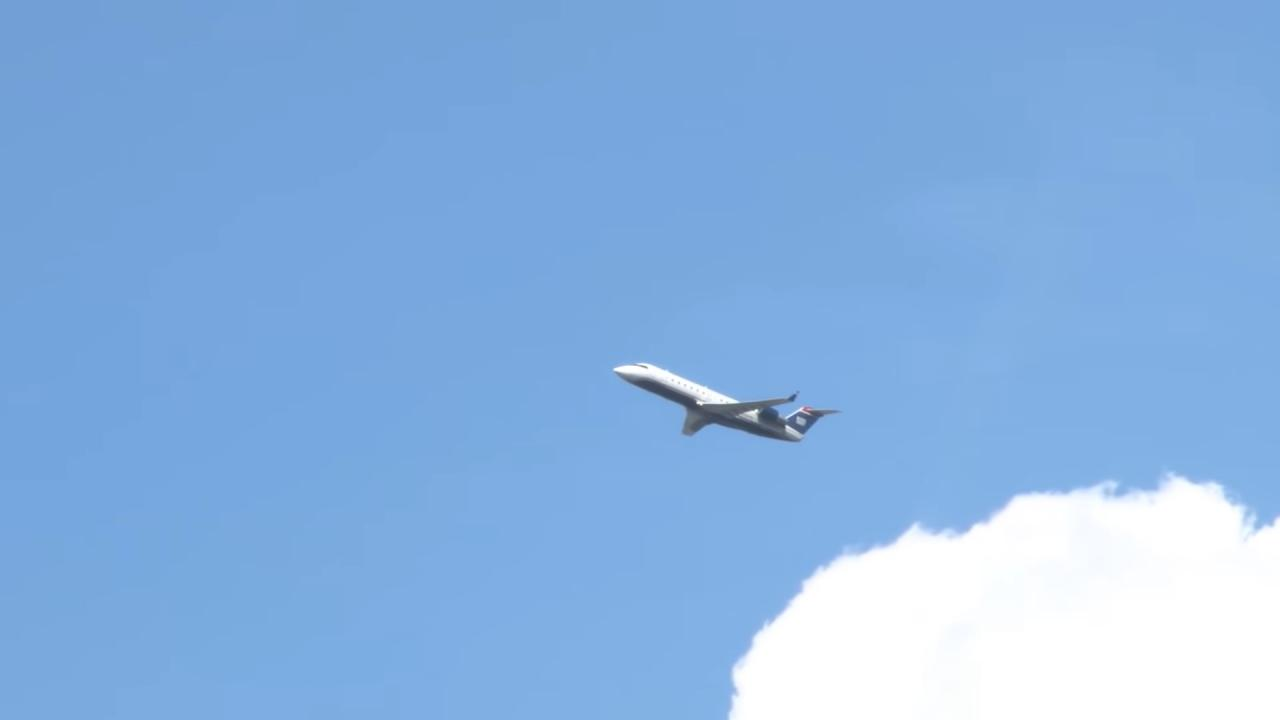Airplane: (599, 350, 852, 455)
